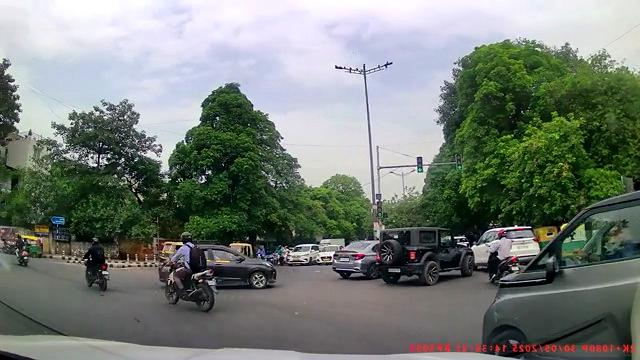motorcycle_with_helmet: (163, 230, 218, 313), (485, 229, 518, 283), (82, 235, 110, 292)
